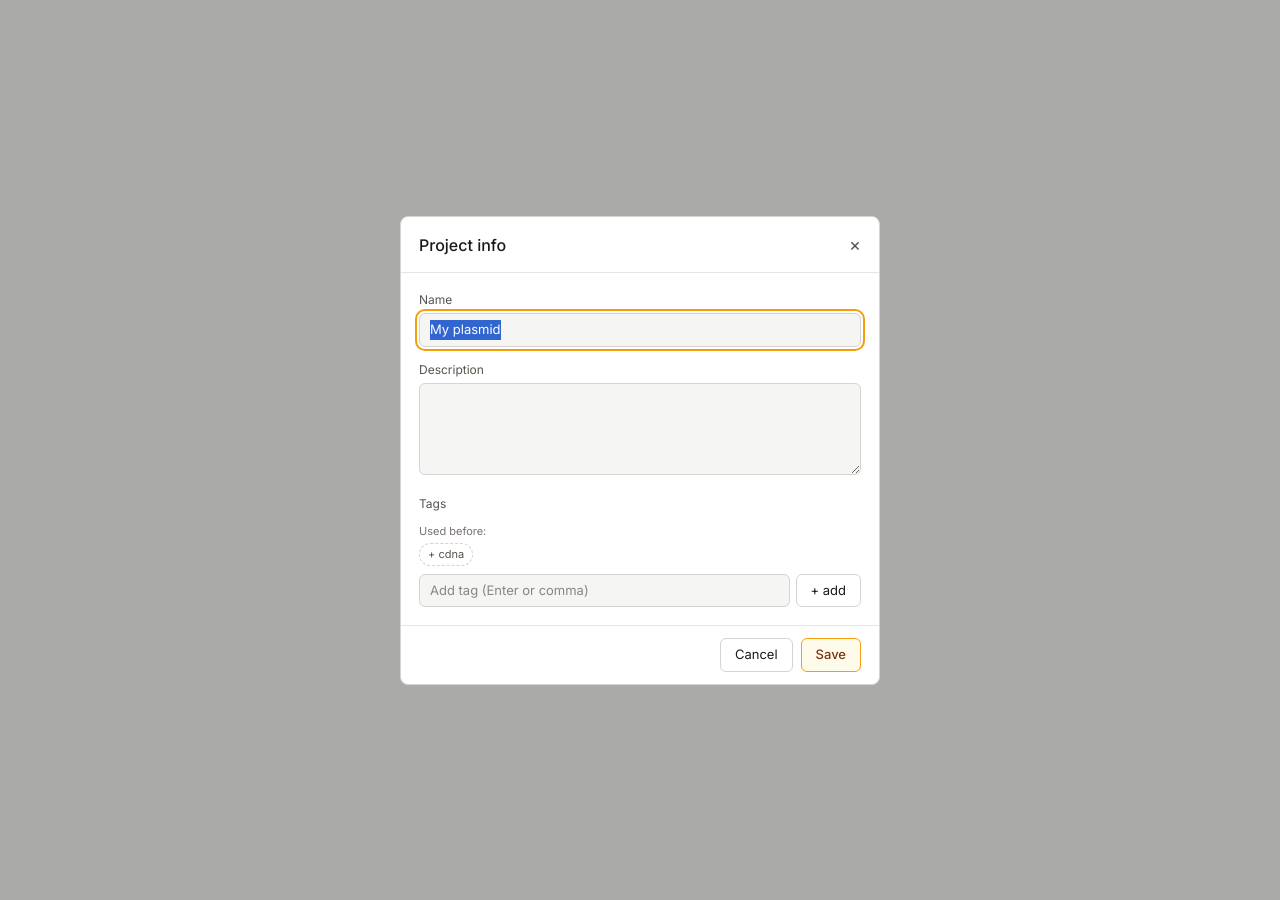
Scenario: M-A-fix-2 — ProjectInfoModal › clicking a suggestion adds the tag to chips and removes it from suggestions
Click the button with test id "project-info-tag-suggestion-cdna": (446, 554) [419,543,473,565]
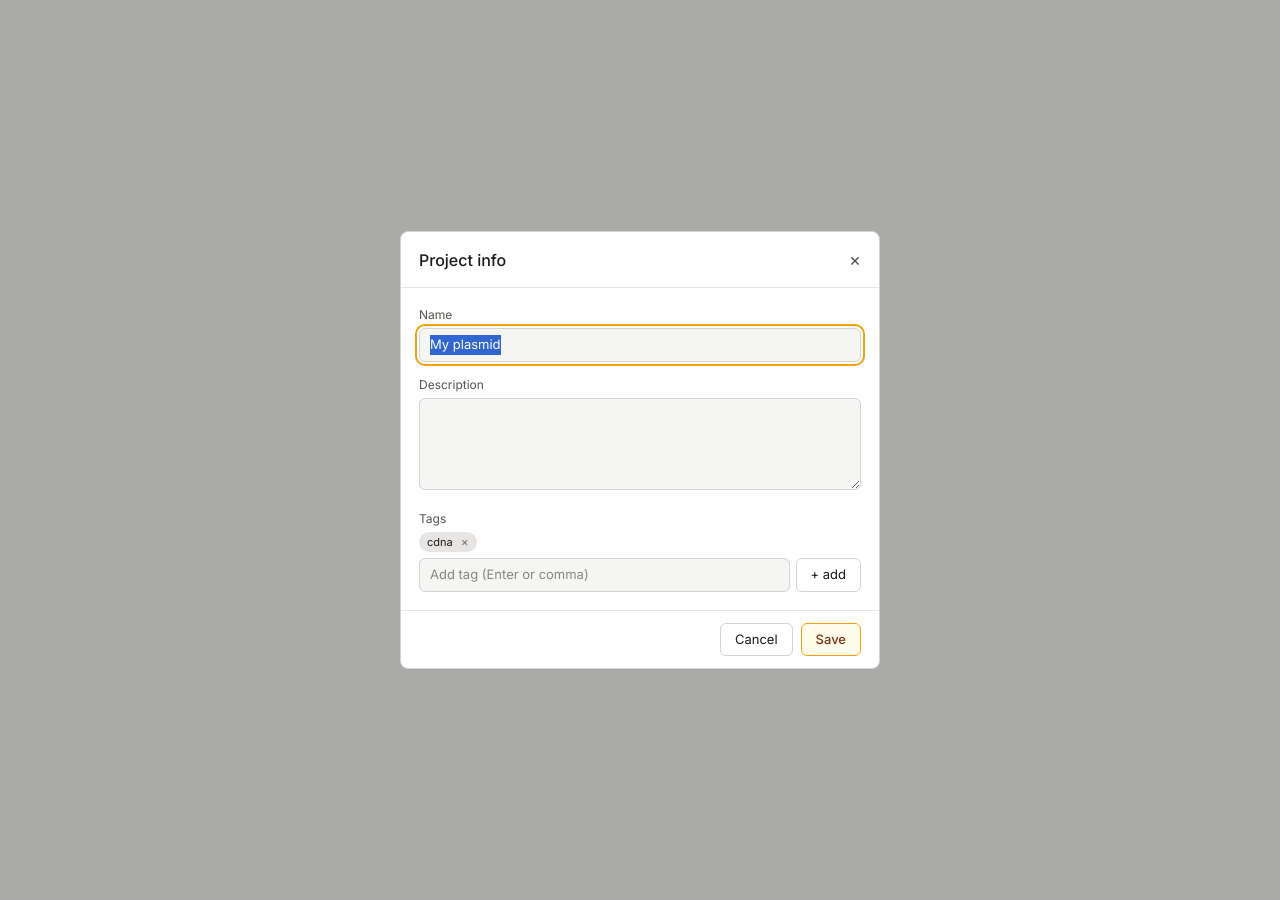
expect the element with test id "project-info-tag-cdna" is shown: met, box [419,532,477,552]
expect the button with test id "project-info-tag-suggestion-cdna" is gone: met
